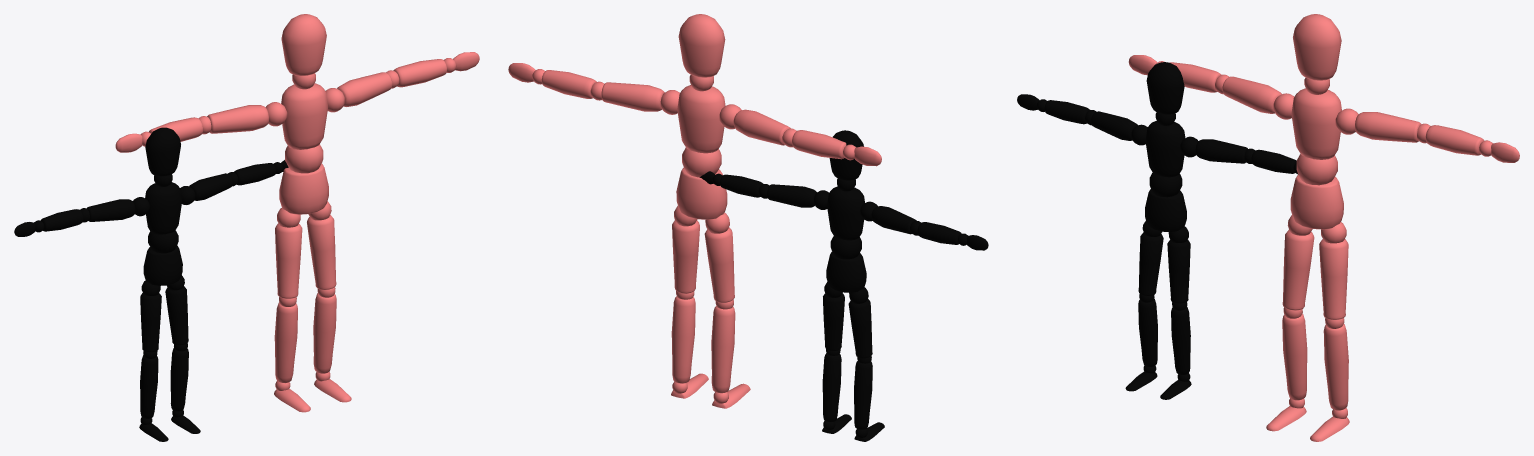
Rendered from dummy.glb.
The picture shows the model from 3 angles, left to right: view 1: azimuth 30°, elevation 25°; view 2: azimuth 150°, elevation 25°; view 3: azimuth 330°, elevation 25°; orthographic projection. The views are drawn at different scales.
Visible parts, largest first — view 1: Upper_Body, Head, Pelvis, Right_Thigh, Left_Thigh, Left_Shin, Right_Shin, Upper_Body_2, Head_2, Right_Upper_Arm, Pelvis_2, Left_Upper_Arm (+14 smaller); view 2: Upper_Body, Head, Pelvis, Right_Shin, Left_Shin, Right_Thigh, Left_Thigh, Upper_Body_2, Left_Upper_Arm, Pelvis_2, Right_Upper_Arm, Left_Shin_2 (+12 smaller); view 3: Upper_Body, Head, Pelvis, Left_Thigh, Right_Thigh, Left_Shin, Right_Shin, Upper_Body_2, Head_2, Left_Upper_Arm, Pelvis_2, Right_Upper_Arm (+15 smaller).
Part boxes in pixels (<box>): Upper_Body: <box>281,83,328,149</box>; Head: <box>281,14,326,75</box>; Pelvis: <box>279,163,328,214</box>; Right_Thigh: <box>275,223,302,298</box>; Left_Thigh: <box>307,214,336,289</box>; Left_Shin: <box>313,293,336,373</box>; Right_Shin: <box>274,302,297,383</box>; Upper_Body_2: <box>145,182,182,234</box>; Head_2: <box>145,127,180,176</box>; Right_Upper_Arm: <box>207,105,268,133</box>; Pelvis_2: <box>143,245,182,285</box>; Left_Upper_Arm: <box>337,72,392,106</box>; Upper_Body: <box>677,85,725,153</box>; Head: <box>678,14,725,77</box>; Pelvis: <box>676,167,727,219</box>; Right_Shin: <box>711,306,735,393</box>; Left_Shin: <box>671,296,695,383</box>; Right_Thigh: <box>704,227,734,302</box>; Left_Thigh: <box>672,220,699,293</box>; Upper_Body_2: <box>827,186,864,240</box>; Left_Upper_Arm: <box>601,82,664,111</box>; Pelvis_2: <box>826,251,866,292</box>; Right_Upper_Arm: <box>733,109,790,145</box>; Left_Shin_2: <box>822,353,841,421</box>; Upper_Body: <box>1291,88,1341,159</box>; Head: <box>1293,14,1341,80</box>; Pelvis: <box>1290,174,1343,229</box>; Left_Thigh: <box>1319,239,1348,319</box>; Right_Thigh: <box>1282,229,1314,310</box>; Left_Shin: <box>1323,324,1348,410</box>; Right_Shin: <box>1282,313,1307,400</box>; Upper_Body_2: <box>1145,120,1185,177</box>; Head_2: <box>1146,62,1184,114</box>; Left_Upper_Arm: <box>1355,112,1421,142</box>; Pelvis_2: <box>1145,189,1186,232</box>; Right_Upper_Arm: <box>1222,76,1281,113</box>.
Size of the model in its own units: 297 by 228 by 39.2.
